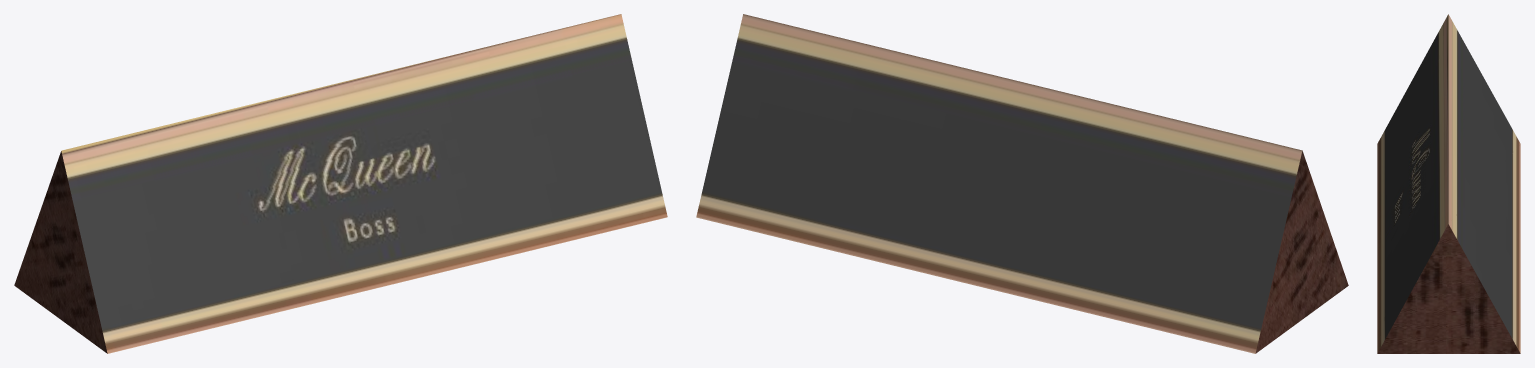
The model's file is bosstag2.gltf.
3 renders of one model, left to right at view 1: azimuth 30°, elevation 25°; view 2: azimuth 150°, elevation 25°; view 3: azimuth 270°, elevation 25°, orthographic. The views are drawn at different scales.
Parts seen in each view (by area): view 1: Cube; view 2: Cube; view 3: Cube.
Boxes of the visible parts, <box> form: Cube: <box>14,14,667,353</box>; Cube: <box>696,14,1348,353</box>; Cube: <box>1377,14,1520,353</box>.
Bounding box in the file's own units: 1.73 × 0.5012 × 0.5012.
1 material, 1 textured.
